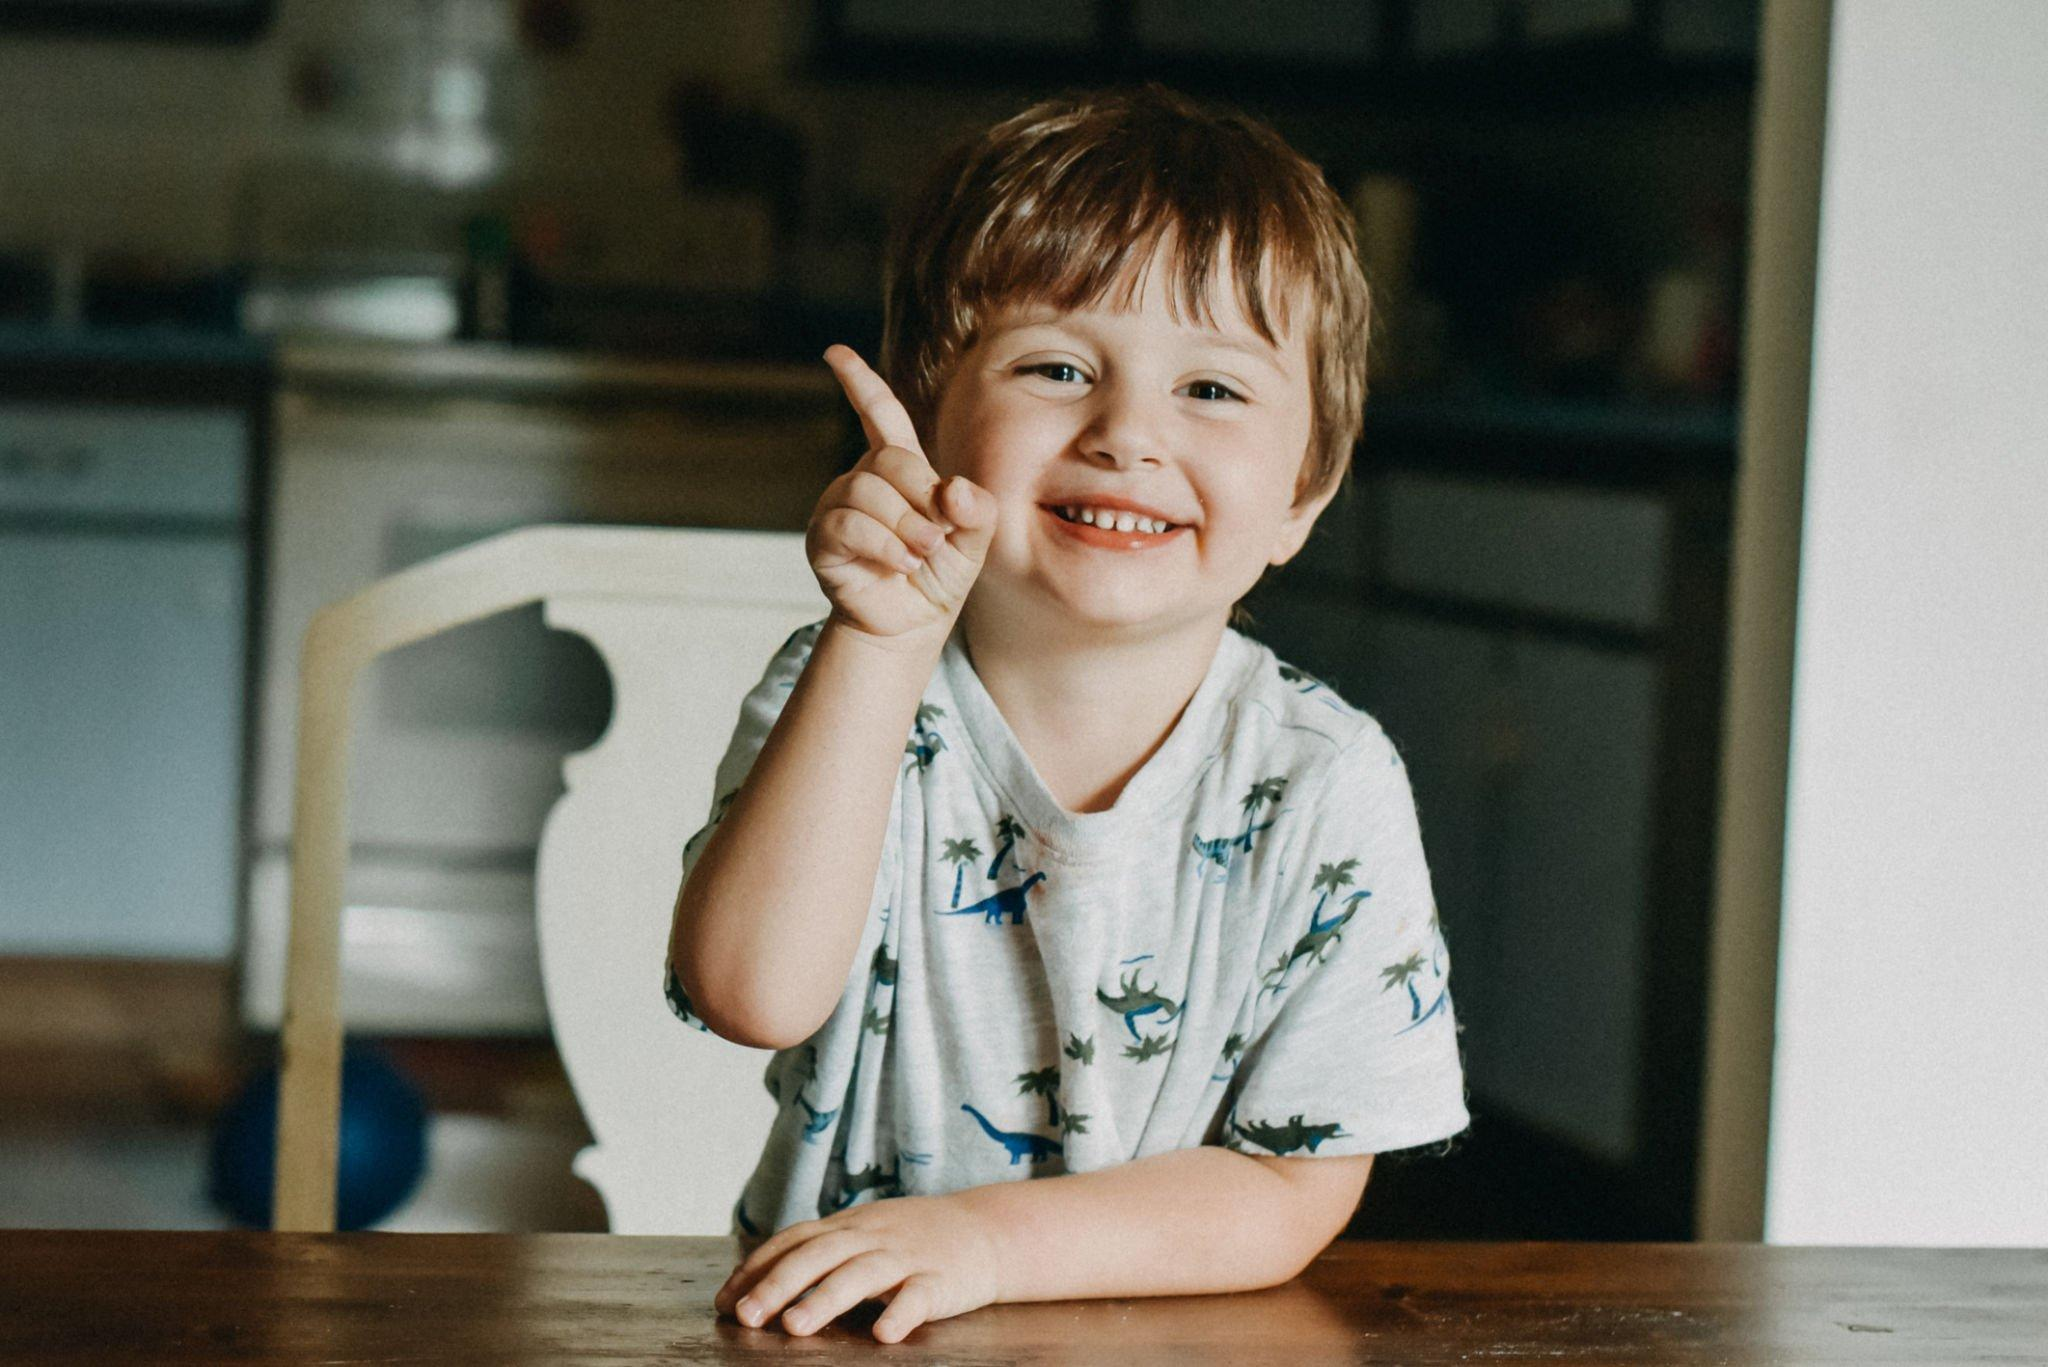Healthy: (932, 76, 1426, 687)
